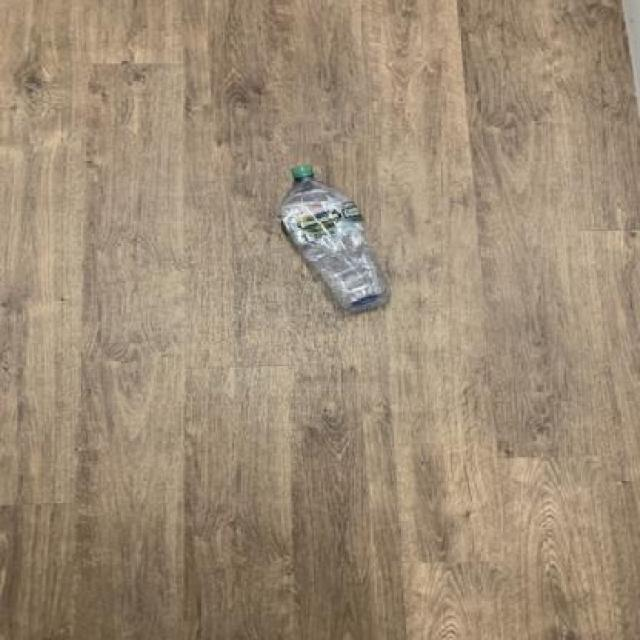trash: (278, 164, 394, 316)
